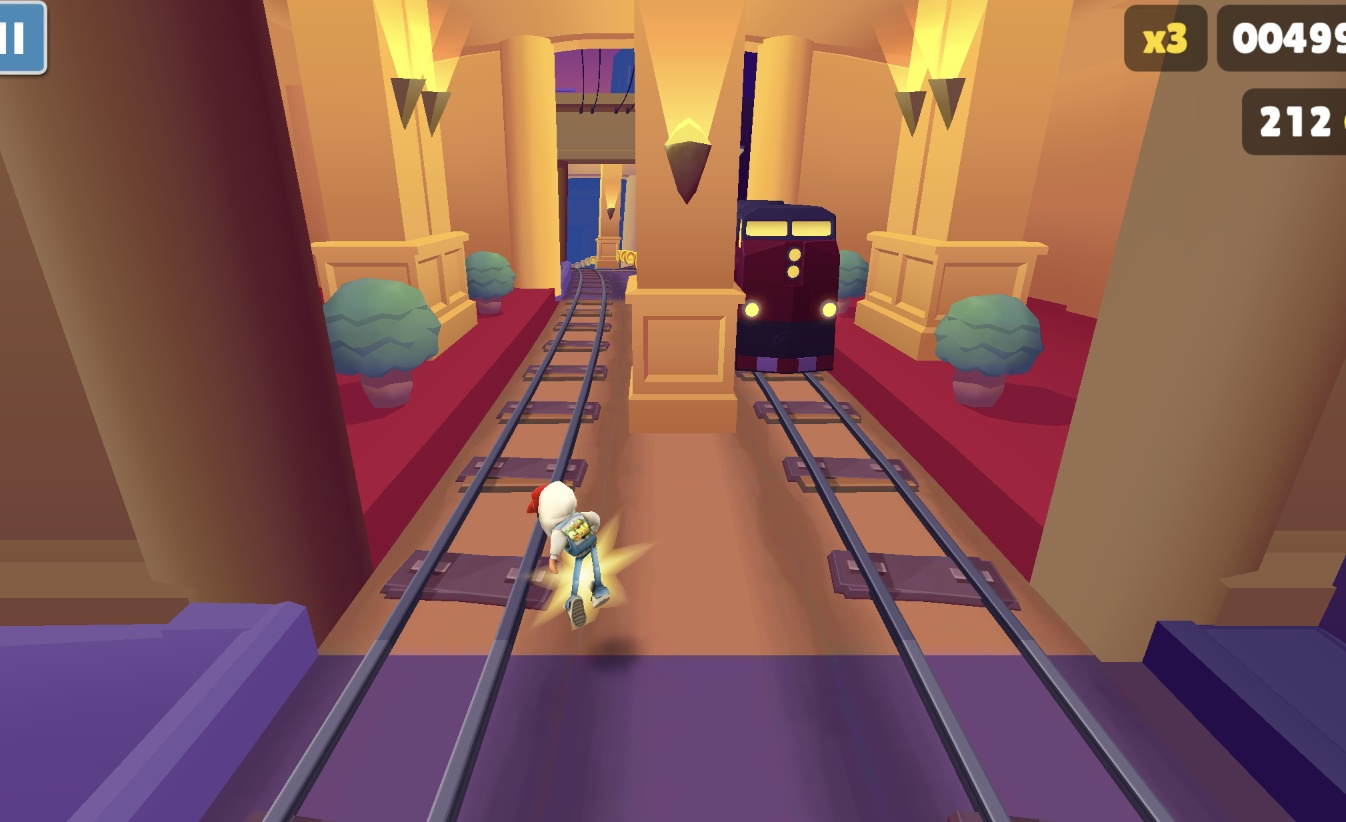pillar: (624, 0, 747, 435), (595, 163, 623, 270)
train: (736, 201, 841, 376)
